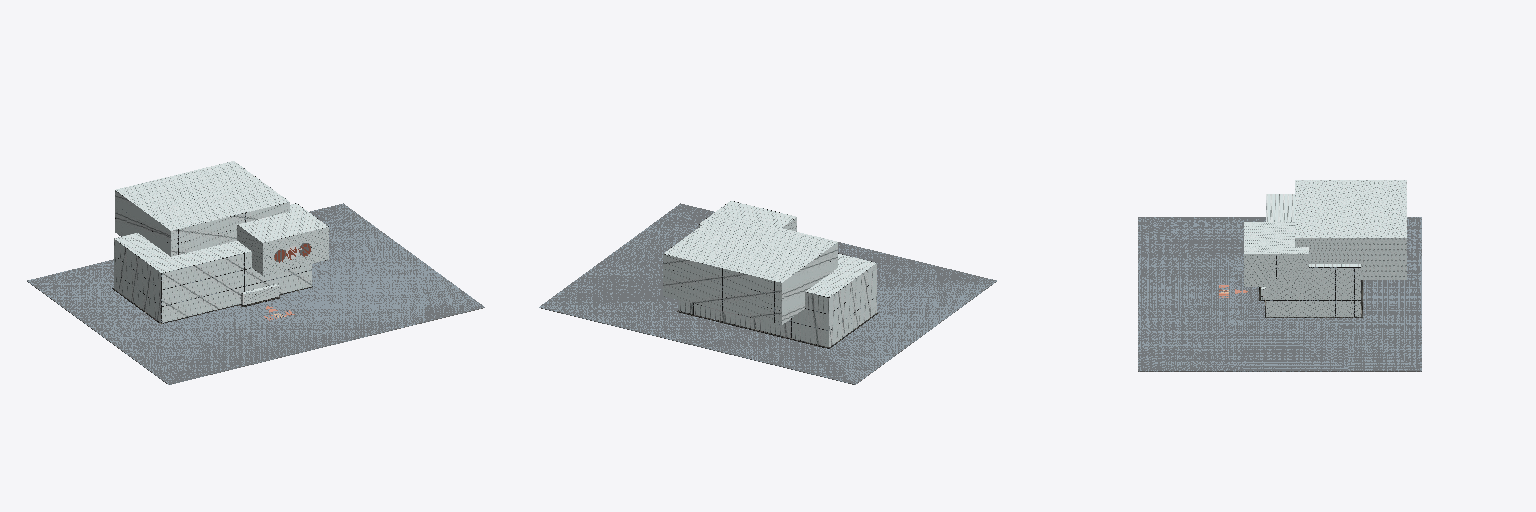
The picture shows the model from 3 angles: view 1: azimuth 30°, elevation 25°; view 2: azimuth 150°, elevation 25°; view 3: azimuth 270°, elevation 25°; orthographic projection.
Parts seen in each view (by area): view 1: Mesh1 Group1 Model, Mesh91 Group32 Group30 Group3 Model, Mesh391 Group78 Group73 Group3 Model, Mesh383 Group74 Group73 Group3 Model, Mesh97 Group35 Group30 Group3 Model, Mesh387 Group76 Group73 Group3 Model, Mesh375 Group70 Group63 Group3 Model, Mesh373 Group69 Group63 Group3 Model, Mesh93 Group33 Group30 Group3 Model, Mesh379 Group72 Group63 Group3 Model; view 2: Mesh1 Group1 Model, Mesh91 Group32 Group30 Group3 Model, Mesh89 Group31 Group30 Group3 Model, Mesh385 Group75 Group73 Group3 Model, Mesh383 Group74 Group73 Group3 Model, Mesh93 Group33 Group30 Group3 Model, Mesh387 Group76 Group73 Group3 Model, Mesh373 Group69 Group63 Group3 Model; view 3: Mesh1 Group1 Model, Mesh91 Group32 Group30 Group3 Model, Mesh389 Group77 Group73 Group3 Model, Mesh95 Group34 Group30 Group3 Model, Mesh371 Group68 Group63 Group3 Model, Mesh373 Group69 Group63 Group3 Model, Mesh387 Group76 Group73 Group3 Model.
Part boxes in pixels (left/top/right/bottom): Mesh1 Group1 Model: left=27, top=203, right=484, bottom=384; Mesh91 Group32 Group30 Group3 Model: left=116, top=161, right=288, bottom=230; Mesh391 Group78 Group73 Group3 Model: left=162, top=252, right=311, bottom=322; Mesh383 Group74 Group73 Group3 Model: left=114, top=239, right=160, bottom=322; Mesh97 Group35 Group30 Group3 Model: left=171, top=202, right=289, bottom=256; Mesh387 Group76 Group73 Group3 Model: left=115, top=233, right=250, bottom=272; Mesh375 Group70 Group63 Group3 Model: left=263, top=227, right=328, bottom=275; Mesh373 Group69 Group63 Group3 Model: left=237, top=203, right=327, bottom=242; Mesh93 Group33 Group30 Group3 Model: left=115, top=190, right=170, bottom=256; Mesh379 Group72 Group63 Group3 Model: left=237, top=225, right=262, bottom=275; Mesh1 Group1 Model: left=539, top=203, right=996, bottom=384; Mesh91 Group32 Group30 Group3 Model: left=664, top=213, right=836, bottom=282; Mesh89 Group31 Group30 Group3 Model: left=663, top=254, right=781, bottom=324; Mesh385 Group75 Group73 Group3 Model: left=679, top=292, right=828, bottom=346; Mesh383 Group74 Group73 Group3 Model: left=829, top=263, right=876, bottom=346; Mesh93 Group33 Group30 Group3 Model: left=782, top=242, right=837, bottom=324; Mesh387 Group76 Group73 Group3 Model: left=806, top=254, right=875, bottom=296; Mesh373 Group69 Group63 Group3 Model: left=700, top=201, right=795, bottom=227; Mesh1 Group1 Model: left=1138, top=217, right=1421, bottom=371; Mesh91 Group32 Group30 Group3 Model: left=1295, top=180, right=1406, bottom=237; Mesh389 Group77 Group73 Group3 Model: left=1266, top=268, right=1360, bottom=316; Mesh95 Group34 Group30 Group3 Model: left=1295, top=238, right=1406, bottom=279; Mesh371 Group68 Group63 Group3 Model: left=1244, top=254, right=1308, bottom=286; Mesh373 Group69 Group63 Group3 Model: left=1244, top=222, right=1308, bottom=253; Mesh387 Group76 Group73 Group3 Model: left=1266, top=194, right=1360, bottom=266.
Size of the model in its own units: 141 by 32.91 by 110.
17 materials, 6 textured.